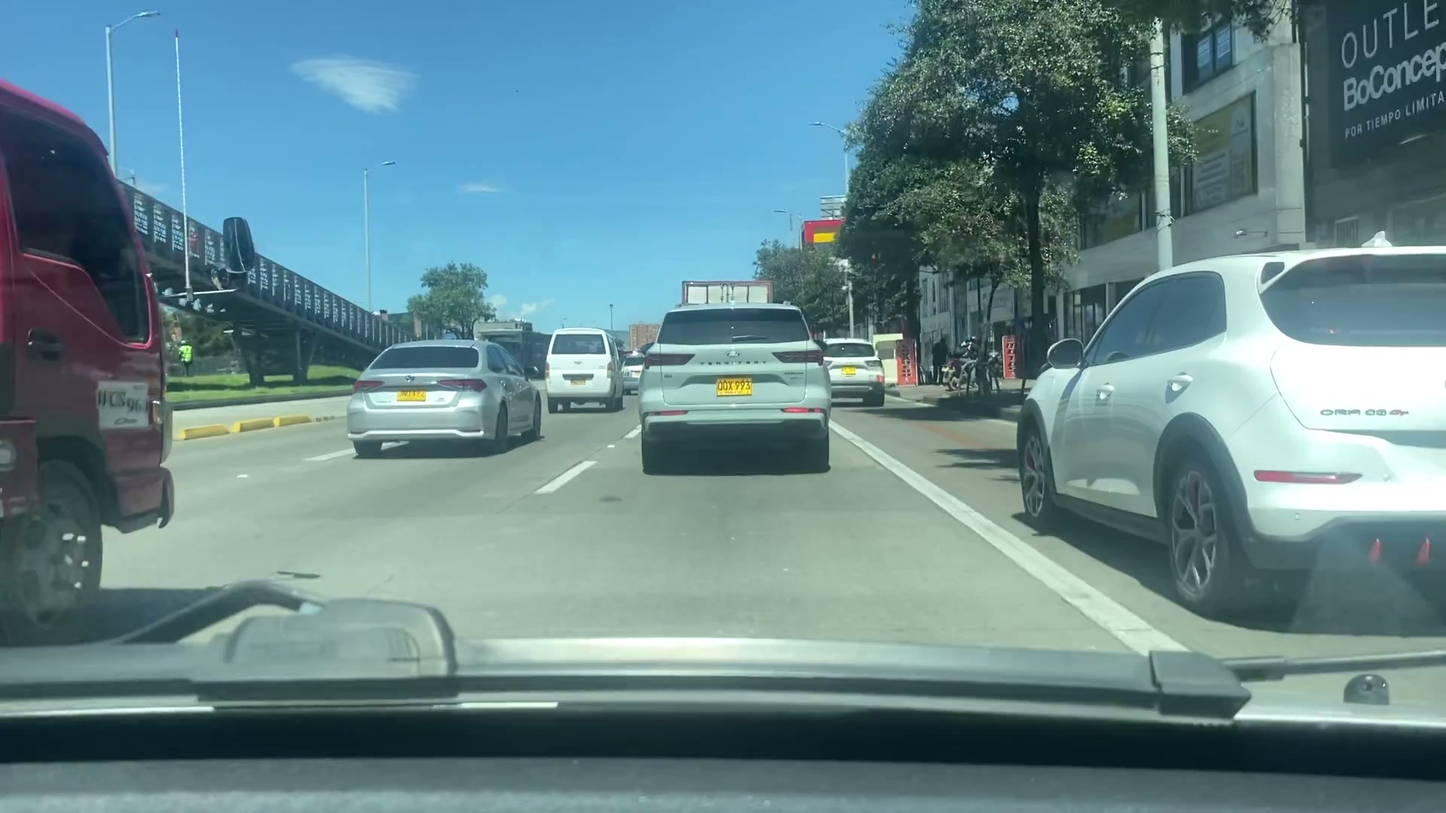bus: (545, 326, 628, 406)
car: (1006, 231, 1446, 616), (633, 300, 832, 472), (345, 339, 549, 453), (811, 337, 889, 406)
truck: (0, 81, 257, 646)
